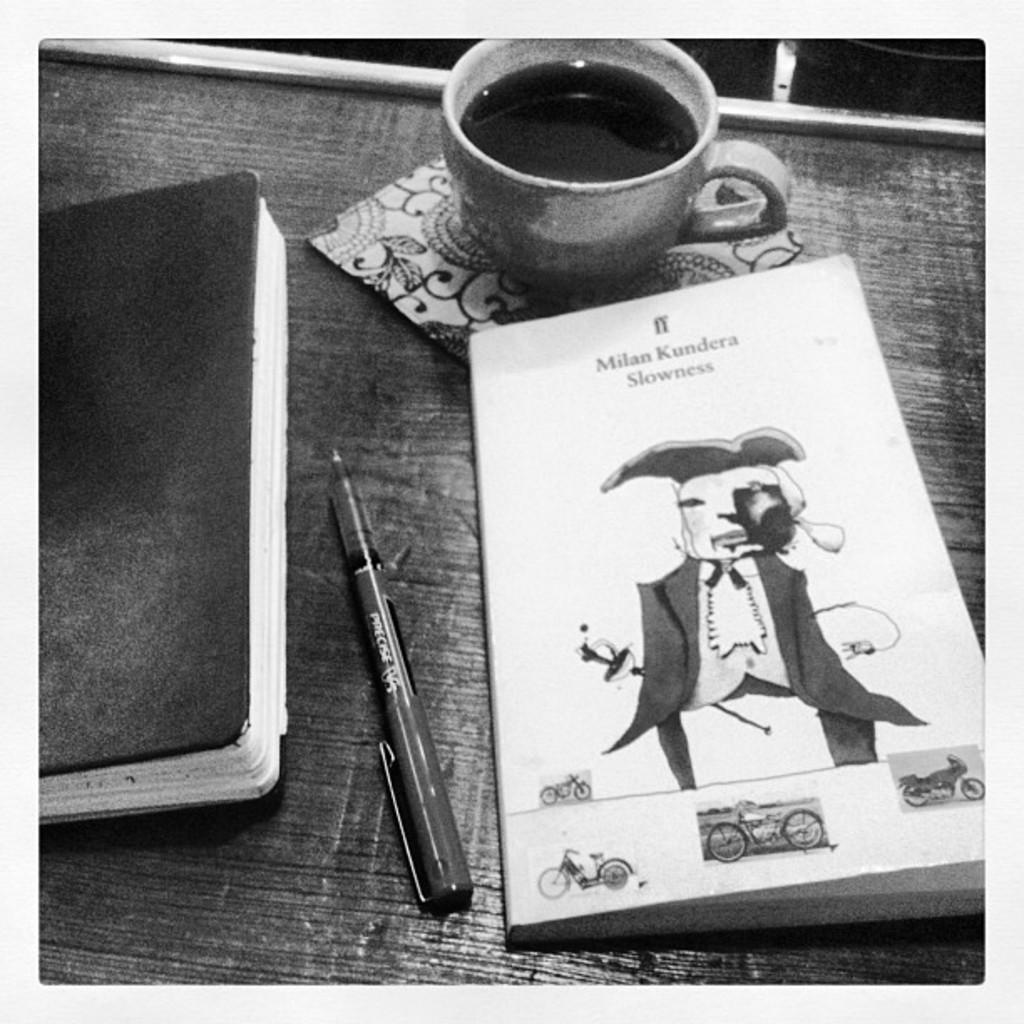pen: (313, 443, 474, 909)
